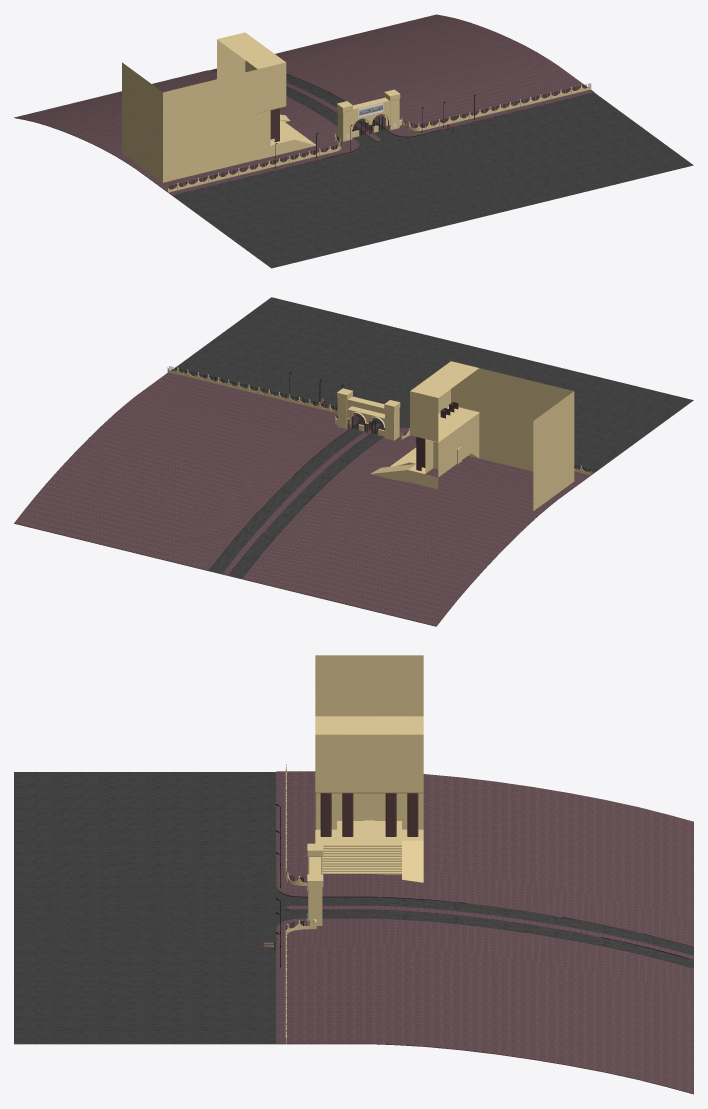
Rendered from academeya.fbx.
3 renders of one model, top to bottom at view 1: azimuth 30°, elevation 25°; view 2: azimuth 150°, elevation 25°; view 3: azimuth 270°, elevation 25°, orthographic. The views are drawn at different scales.
Visible parts, largest first — view 1: Plane, Cube.001, Plane.002, Cube; view 2: Plane, Cube.001, Cube, Plane.002; view 3: Plane, Cube.001, Cube, Plane.002.
Boxes of the visible parts, left/top/right/bottom form: Plane: left=14, top=14, right=693, bottom=268; Cube.001: left=122, top=32, right=316, bottom=182; Plane.002: left=167, top=83, right=591, bottom=192; Cube: left=337, top=89, right=400, bottom=141; Plane: left=14, top=297, right=693, bottom=626; Cube.001: left=370, top=361, right=574, bottom=510; Cube: left=337, top=388, right=400, bottom=440; Plane.002: left=167, top=366, right=591, bottom=475; Plane: left=14, top=771, right=693, bottom=1094; Cube.001: left=315, top=655, right=423, bottom=882; Cube: left=307, top=843, right=323, bottom=925; Plane.002: left=285, top=764, right=315, bottom=1043.
Size of the model in its own units: 8942 by 2608 by 9418.
Materials: 9 (5 with a texture image).
